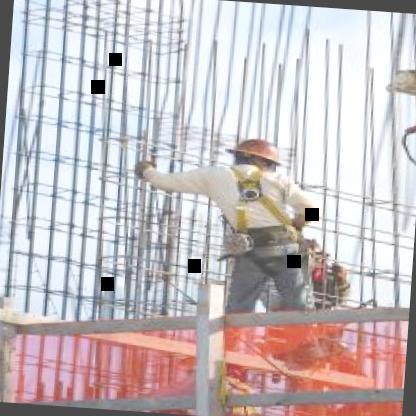helmet: (224, 130, 294, 188)
